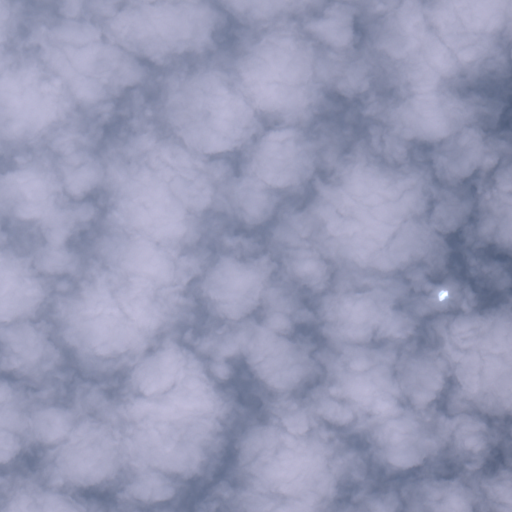Iceberg: (438, 290, 448, 300)
